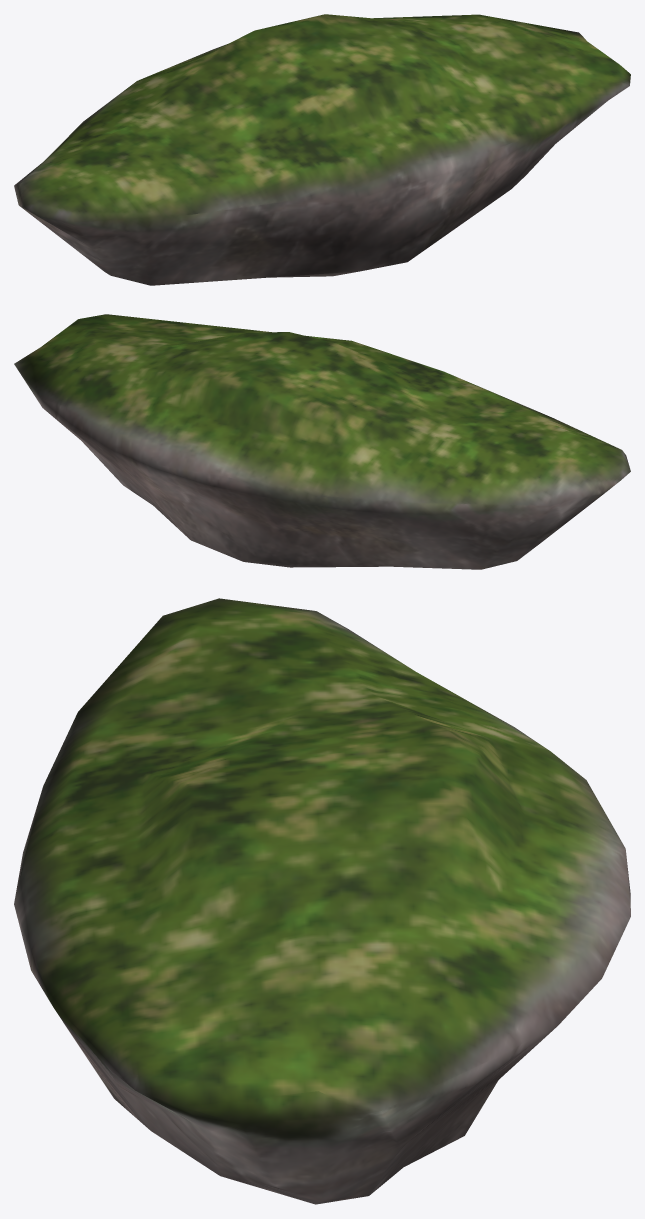
Rendered from land_rock_07.fbx.
The picture shows the model from 3 angles, top to bottom: view 1: azimuth 30°, elevation 25°; view 2: azimuth 150°, elevation 25°; view 3: azimuth 270°, elevation 25°; orthographic projection. The views are drawn at different scales.
Visible parts, largest first — view 1: land_rock_07; view 2: land_rock_07; view 3: land_rock_07.
Part boxes in pixels (box(x1,y1,x2,y2)): land_rock_07: box(14, 14, 630, 285); land_rock_07: box(14, 314, 630, 569); land_rock_07: box(14, 598, 630, 1204).
Bounding box in the file's own units: 22.4 × 7.07 × 11.48.
